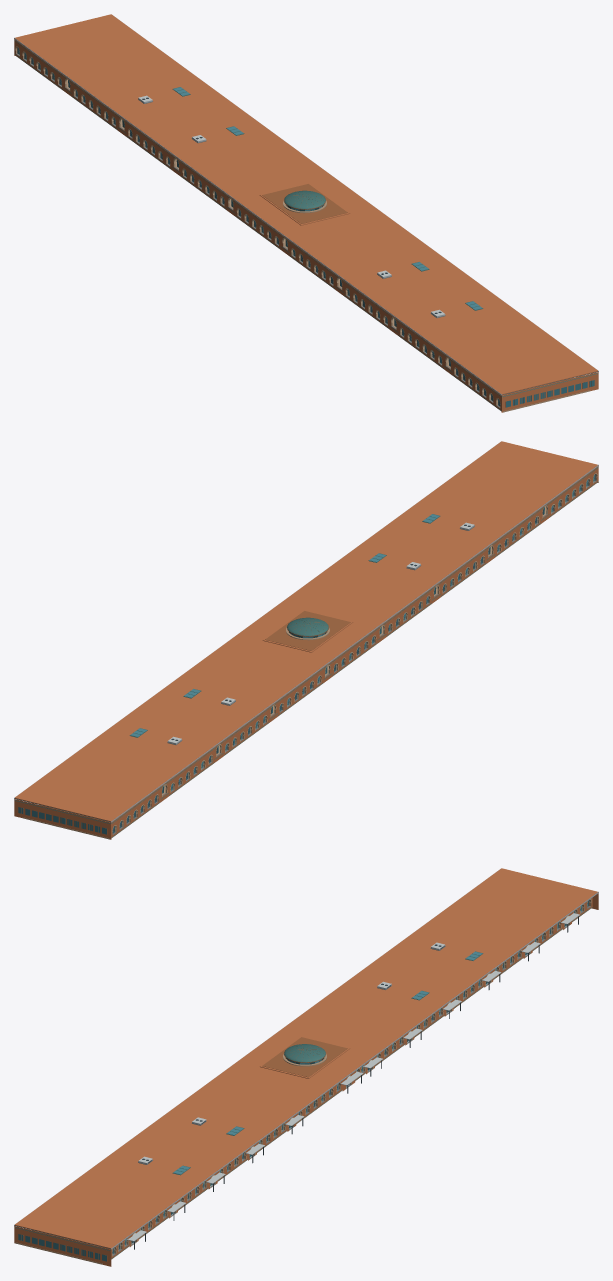
Rendered from AGA_terminal_main.glb.
The picture shows the model from 3 angles, top to bottom: view 1: azimuth 30°, elevation 25°; view 2: azimuth 150°, elevation 25°; view 3: azimuth 330°, elevation 25°; orthographic projection.
Parts seen in each view (by area): view 1: AGA_terminal_main; view 2: AGA_terminal_main; view 3: AGA_terminal_main.
Boxes of the visible parts, x1,y1,x2,y2 form: AGA_terminal_main: (14,14,598,412); AGA_terminal_main: (14,441,598,839); AGA_terminal_main: (14,868,598,1266).
Size of the model in its own units: 60 by 16 by 520.
16 materials, 16 textured.
